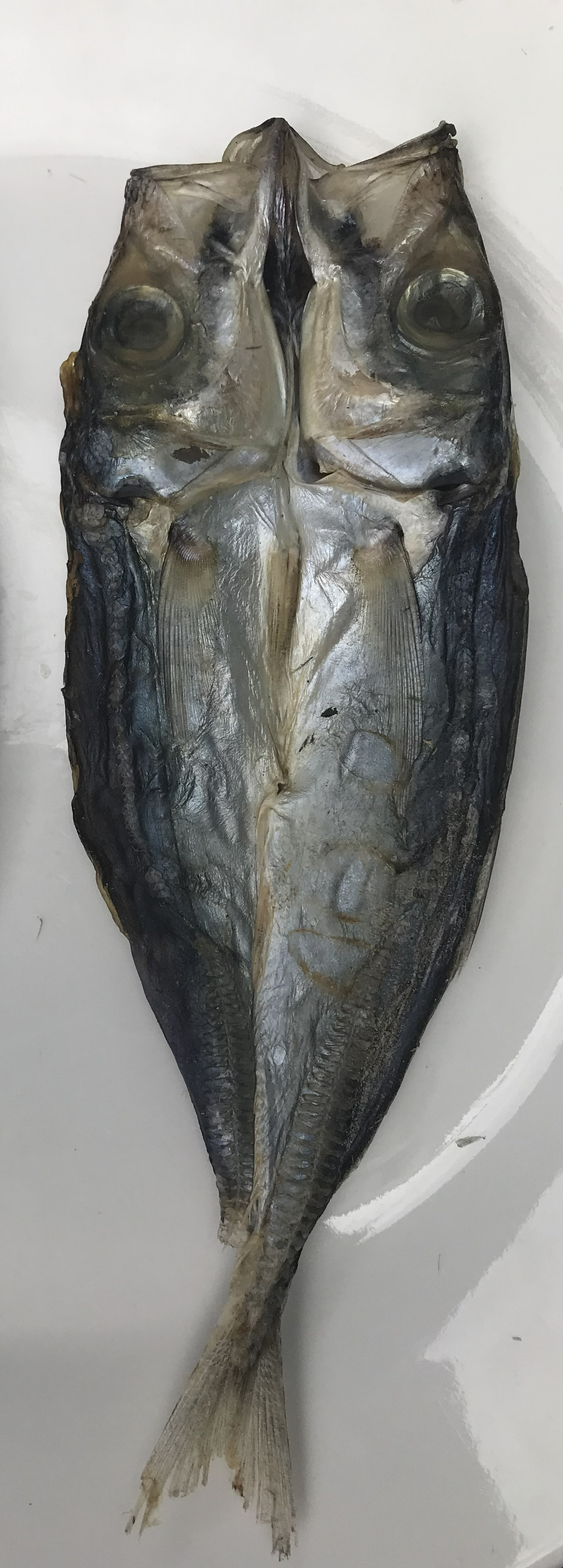barol_dried_: (59, 118, 530, 1562)
